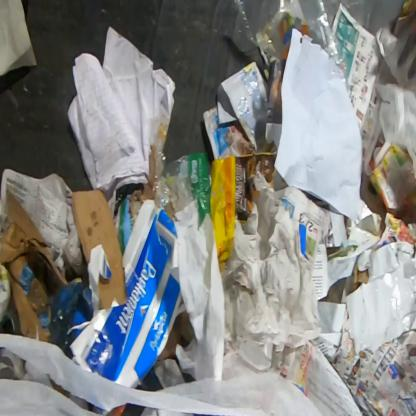cardboard: (69, 198, 182, 390), (0, 189, 84, 343), (72, 188, 126, 309), (349, 264, 369, 294)
soft_plastic: (210, 0, 349, 98), (151, 149, 212, 231)
